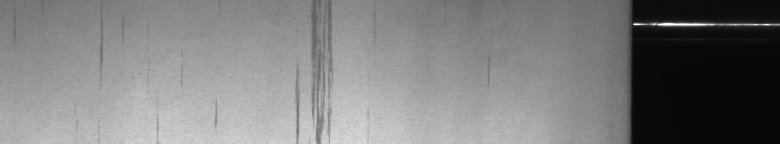hd: (292, 4, 336, 136)
